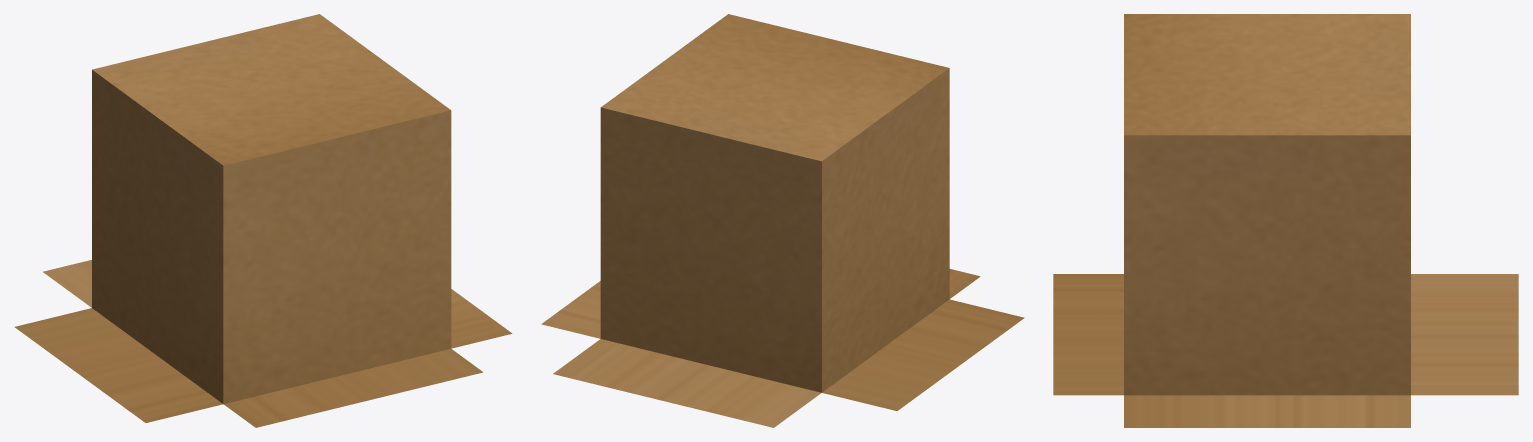
The model's file is boxwaypoint.glb.
3 views of the same model, side by side, from view 1: azimuth 30°, elevation 25°; view 2: azimuth 150°, elevation 25°; view 3: azimuth 270°, elevation 25° (orthographic). The views are drawn at different scales.
Parts seen in each view (by area): view 1: Cube; view 2: Cube; view 3: Cube.
Part boxes in pixels (bbox=[...]): Cube: bbox=[14, 14, 512, 427]; Cube: bbox=[541, 14, 1024, 427]; Cube: bbox=[1053, 14, 1518, 427].
Size of the model in its own units: 4.33 by 2.69 by 4.36.
Materials: 1 (1 with a texture image).
